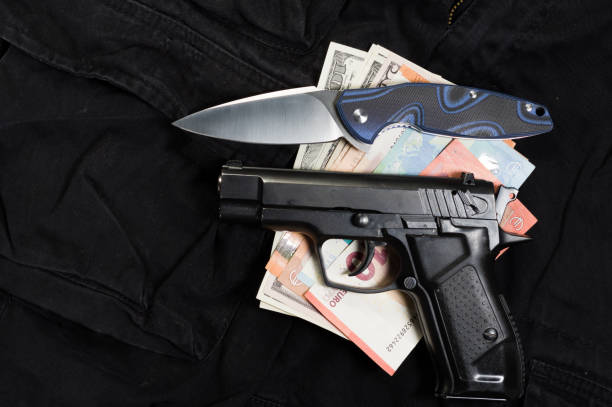gun: (219, 164, 528, 404)
knife: (172, 83, 554, 146)
